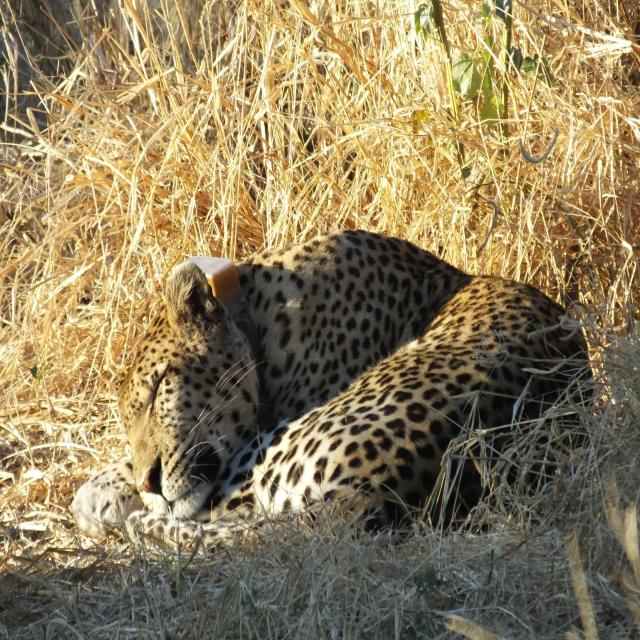Leopard: (79, 226, 598, 567)
